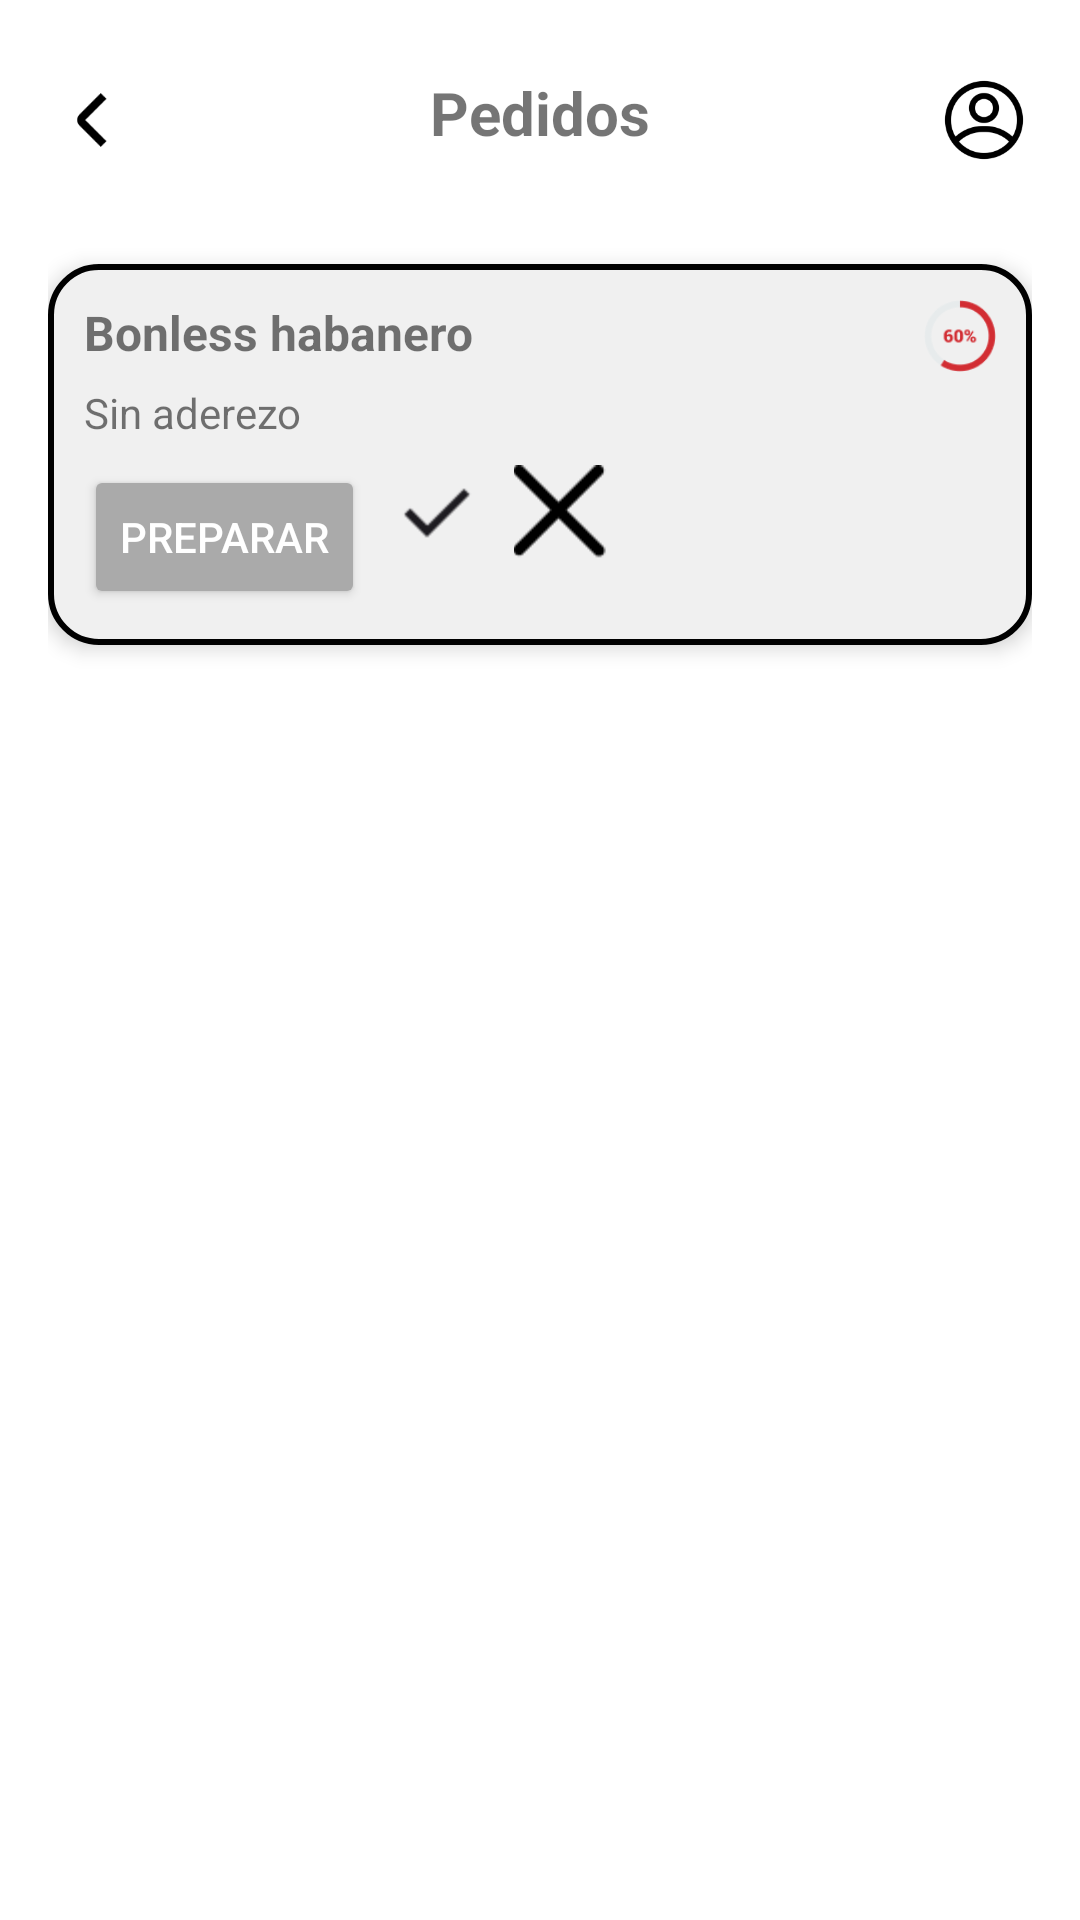

Where to tap for icons on this 1080 × 1920 app screen, as (x,y):
Aceptar: (437,513)
Eliminar: (560,511)
Perfil: (984,120)
Volver: (92,120)
